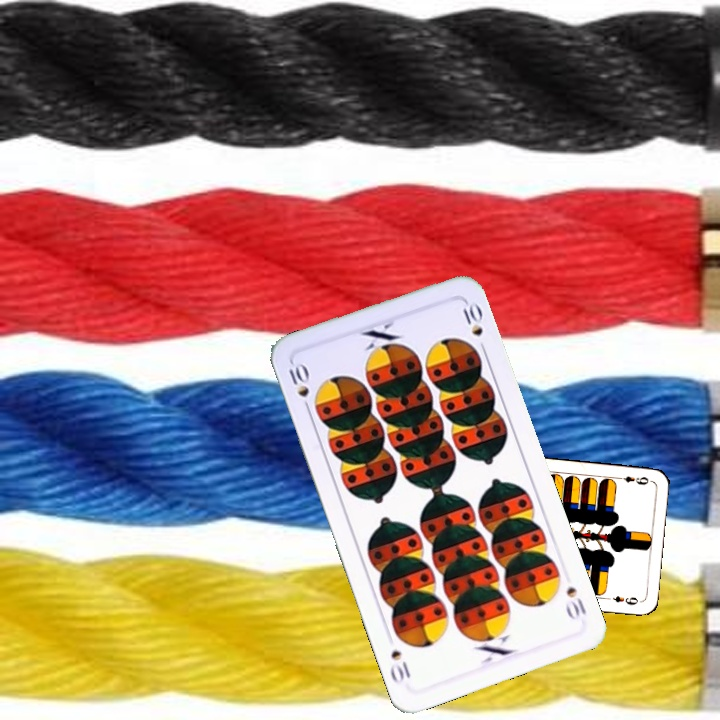E9: (612, 472, 653, 488)
S10: (284, 358, 313, 416), (561, 582, 589, 623)
